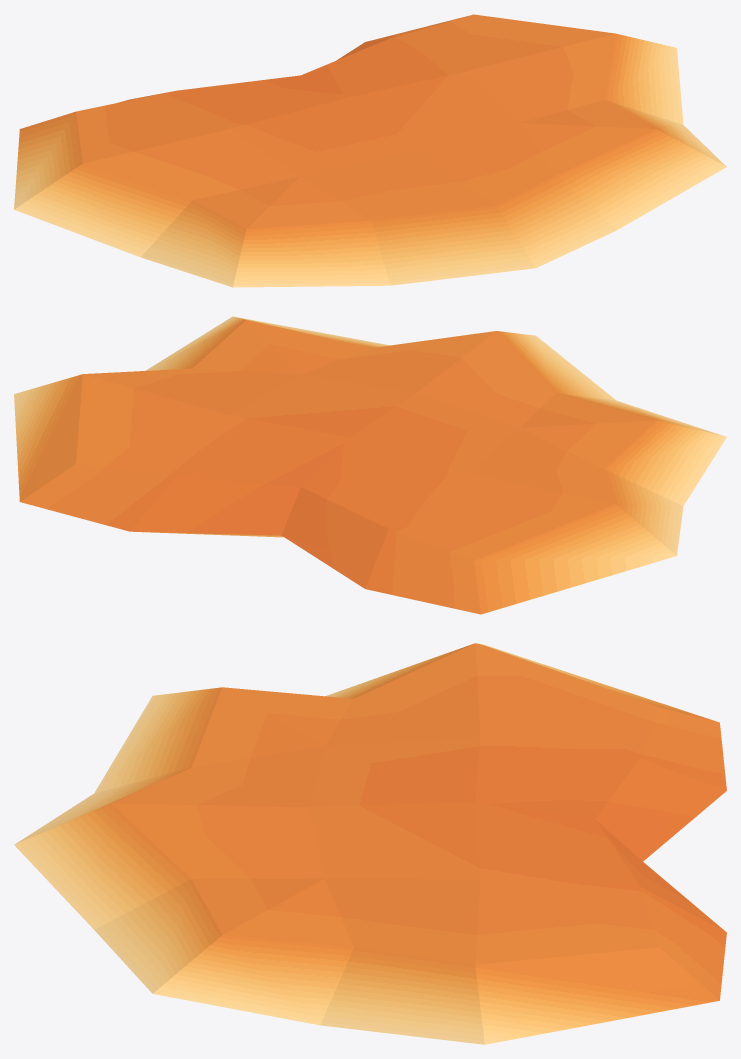
The model's file is ChickenWoods_MidFull.glb.
The picture shows the model from 3 angles, top to bottom: view 1: azimuth 30°, elevation 25°; view 2: azimuth 150°, elevation 25°; view 3: azimuth 270°, elevation 25°; orthographic projection. The views are drawn at different scales.
Visible parts, largest first — view 1: midfull; view 2: midfull; view 3: midfull.
Boxes of the visible parts, x1=… form: midfull: x1=14, y1=14, x2=726, y2=287; midfull: x1=14, y1=316, x2=726, y2=614; midfull: x1=14, y1=643, x2=726, y2=1044.
Bounding box in the file's own units: 3 × 0.3398 × 2.26.
1 material, 1 textured.
